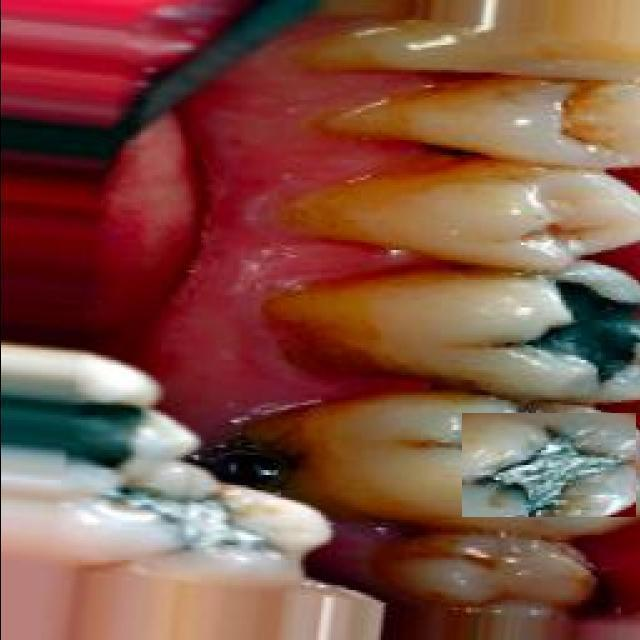caries: (461, 413, 635, 517), (504, 264, 640, 387)
